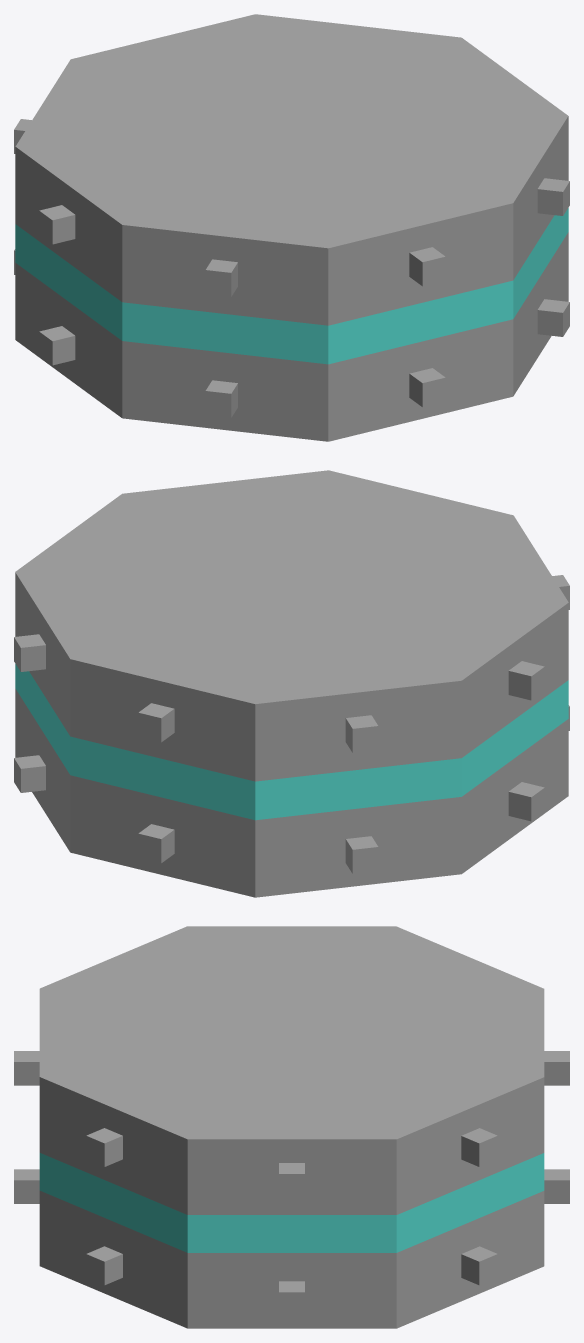
File: ModularWalkways_8SidePlatform.fbx
3 views of the same model, one above another, from view 1: azimuth 30°, elevation 25°; view 2: azimuth 150°, elevation 25°; view 3: azimuth 270°, elevation 25° (orthographic). The views are drawn at different scales.
Visible parts, largest first — view 1: polySurface8; view 2: polySurface8; view 3: polySurface8.
Boxes of the visible parts, <box> form: polySurface8: <box>14,14,569,441</box>; polySurface8: <box>14,470,569,897</box>; polySurface8: <box>14,926,569,1328</box>.
Bounding box in the file's own units: 2130 × 800 × 2130.
